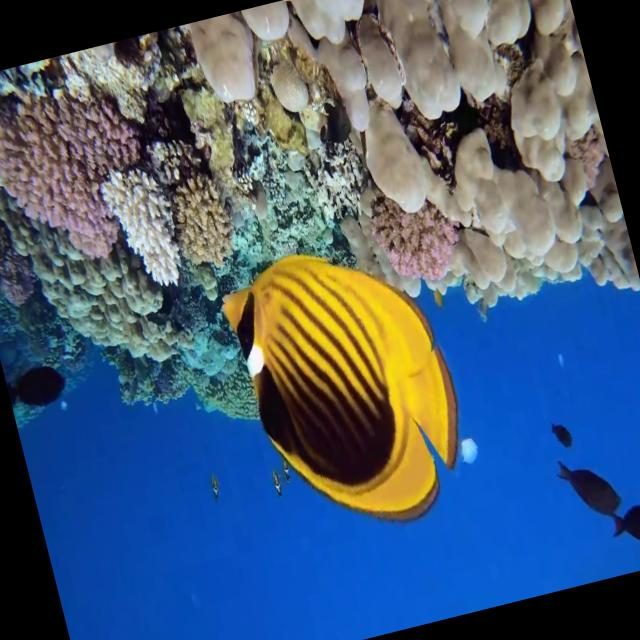fish: (216, 220, 488, 550), (551, 444, 628, 540), (2, 352, 77, 424), (598, 487, 640, 572), (544, 408, 580, 456), (267, 465, 287, 505)
